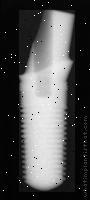Implant Direct: (13, 9, 76, 193)
